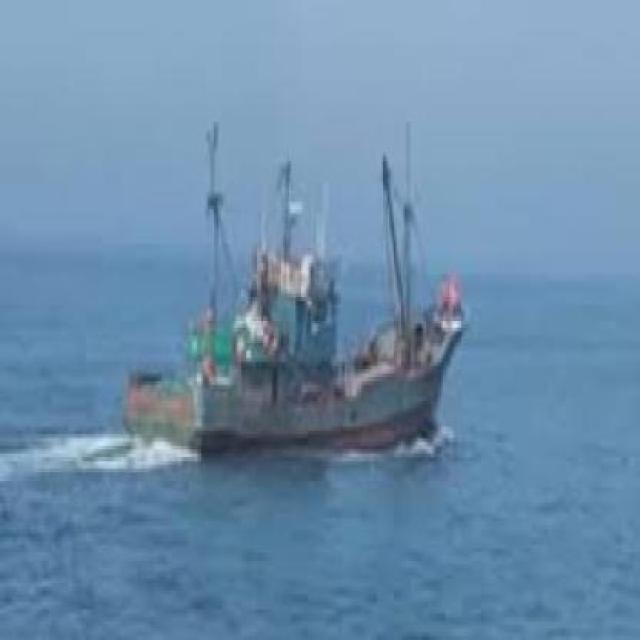fish-b: (110, 93, 479, 462)
